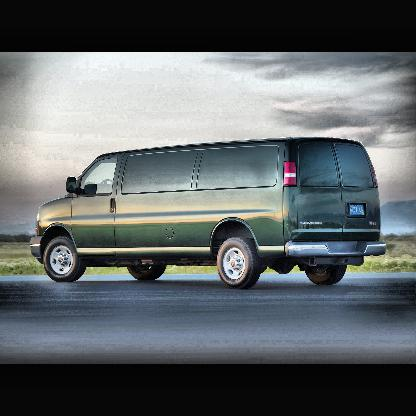GMC Savana Van 2012: (31, 139, 388, 297)
